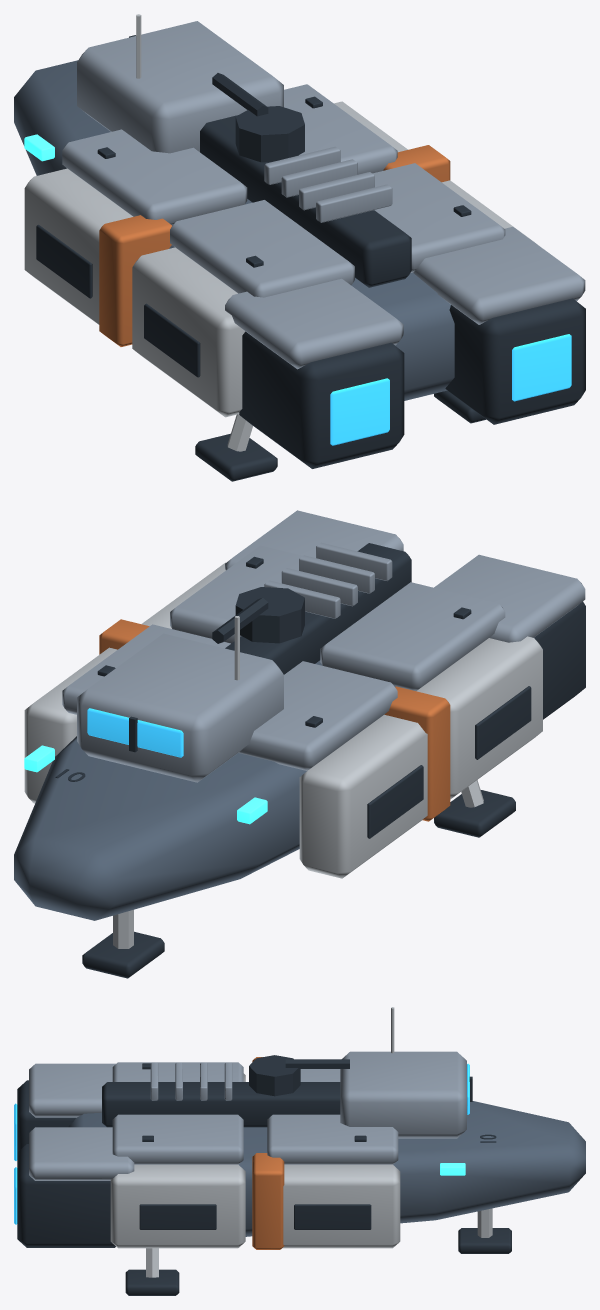
Rendered from frigate.glb.
3 renders of one model, top to bottom at view 1: azimuth 30°, elevation 25°; view 2: azimuth 150°, elevation 25°; view 3: azimuth 270°, elevation 25°, orthographic. The views are drawn at different scales.
Parts seen in each view (by area): view 1: Frigate | bridge, Frigate | engine housing, Frigate | keel, Frigate | shoulder armor, Frigate | dorsal armor, Frigate | engine housing.001, Frigate | dorsal armor.001, Frigate | engine armor cap, Frigate | engine armor cap.001, Frigate | compact spine, Frigate | shoulder armor.001, Frigate | dorsal armor.002 (+18 smaller); view 2: Frigate | keel, Frigate | bridge, Frigate | shoulder armor.001, Frigate | dorsal armor, Frigate | shoulder armor, Frigate | dorsal armor.001, Frigate | engine armor cap, Frigate | compact spine, Frigate | dorsal armor.002, Frigate | engine armor cap.001, Frigate | orange identification band, Frigate | engine housing (+16 smaller); view 3: Frigate | keel, Frigate | bridge, Frigate | shoulder armor.002, Frigate | shoulder armor.003, Frigate | compact spine, Frigate | engine housing.001, Frigate | dorsal armor.002, Frigate | dorsal armor.003, Frigate | engine armor cap.001, Frigate | engine armor cap, Frigate | orange identification band.001, Frigate | dorsal armor (+10 smaller).
Boxes of the visible parts, x1=… form: Frigate | bridge: x1=77, y1=21, x2=283, y2=153; Frigate | engine housing: x1=239, y1=331, x2=404, y2=468; Frigate | keel: x1=14, y1=60, x2=454, y2=400; Frigate | shoulder armor: x1=132, y1=247, x2=245, y2=417; Frigate | dorsal armor: x1=170, y1=200, x2=354, y2=297; Frigate | engine housing.001: x1=445, y1=298, x2=585, y2=424; Frigate | dorsal armor.001: x1=62, y1=129, x2=247, y2=224; Frigate | engine armor cap: x1=225, y1=278, x2=403, y2=369; Frigate | engine armor cap.001: x1=413, y1=226, x2=585, y2=324; Frigate | compact spine: x1=200, y1=115, x2=411, y2=287; Frigate | shoulder armor.001: x1=24, y1=168, x2=132, y2=324; Frigate | dorsal armor.002: x1=372, y1=163, x2=505, y2=272; Frigate | keel: x1=14, y1=660, x2=402, y2=920; Frigate | bridge: x1=77, y1=633, x2=283, y2=782; Frigate | shoulder armor.001: x1=299, y1=714, x2=427, y2=878; Frigate | dorsal armor: x1=320, y1=582, x2=505, y2=690; Frigate | shoulder armor: x1=416, y1=636, x2=542, y2=799; Frigate | dorsal armor.001: x1=238, y1=661, x2=397, y2=770; Frigate | engine armor cap: x1=434, y1=554, x2=585, y2=642; Frigate | compact spine: x1=225, y1=543, x2=411, y2=674; Frigate | dorsal armor.002: x1=170, y1=545, x2=302, y2=643; Frigate | engine armor cap.001: x1=225, y1=510, x2=403, y2=570; Frigate | orange identification band: x1=384, y1=686, x2=450, y2=821; Frigate | engine housing: x1=534, y1=601, x2=585, y2=719; Frigate | keel: x1=68, y1=1101, x2=585, y2=1236; Frigate | bridge: x1=340, y1=1051, x2=466, y2=1138; Frigate | shoulder armor.002: x1=110, y1=1164, x2=245, y2=1248; Frigate | shoulder armor.003: x1=282, y1=1164, x2=400, y2=1248; Frigate | compact spine: x1=102, y1=1082, x2=340, y2=1127; Frigate | engine housing.001: x1=17, y1=1144, x2=115, y2=1247; Frigate | dorsal armor.002: x1=112, y1=1114, x2=243, y2=1164; Frigate | dorsal armor.003: x1=267, y1=1114, x2=398, y2=1164; Frigate | engine armor cap.001: x1=29, y1=1127, x2=134, y2=1180; Frigate | engine armor cap: x1=29, y1=1063, x2=115, y2=1117; Frigate | orange identification band.001: x1=252, y1=1153, x2=284, y2=1249; Frigate | dorsal armor: x1=112, y1=1062, x2=243, y2=1081.
Size of the model in its own units: 1.29 by 1.14 by 2.66.
